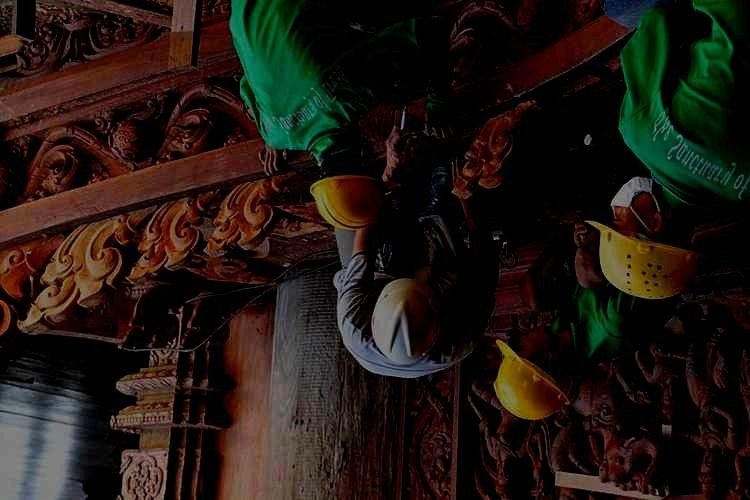helmet: (583, 175, 702, 300), (493, 324, 588, 421), (308, 147, 400, 233), (370, 277, 442, 365)
